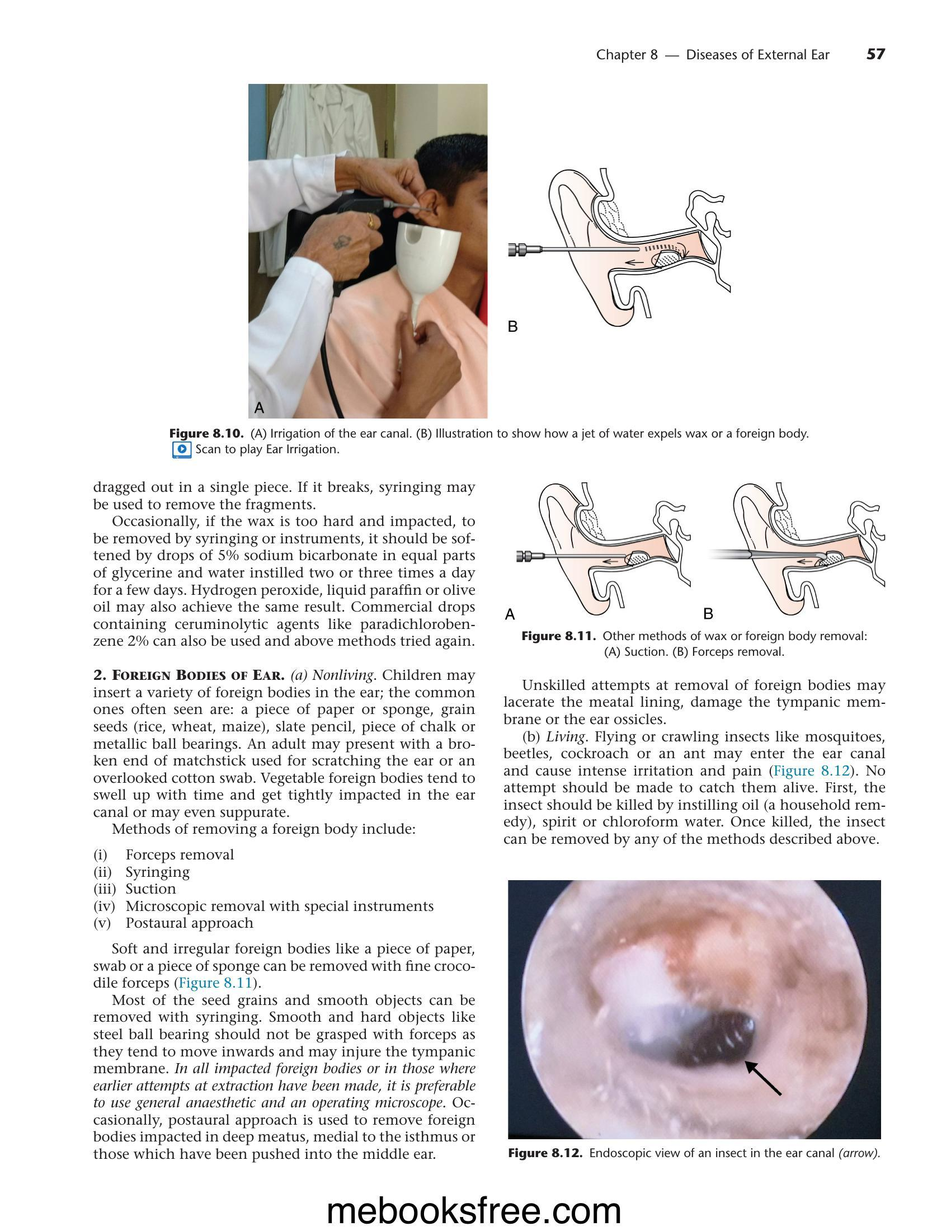caption: (168, 426, 809, 460), (520, 629, 868, 660), (508, 1146, 882, 1162), (506, 318, 520, 333), (503, 606, 517, 621), (702, 605, 715, 621), (254, 401, 266, 416)
header: (594, 45, 831, 62)
image: (508, 879, 881, 1141), (247, 83, 489, 419), (496, 118, 767, 351), (697, 468, 900, 626), (496, 470, 693, 626)
list: (92, 847, 435, 932)
text: (92, 941, 477, 1164), (91, 665, 475, 839), (502, 677, 888, 850), (92, 478, 478, 650)
